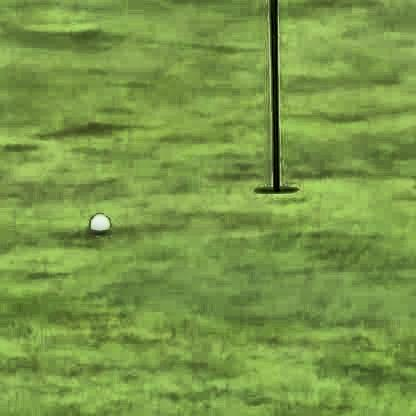golfball: (87, 212, 111, 234)
